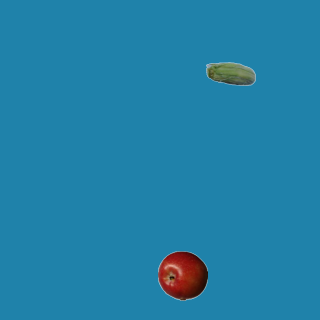Apple Braeburn: (157, 250, 207, 300)
Corn Husk: (205, 50, 255, 100)
